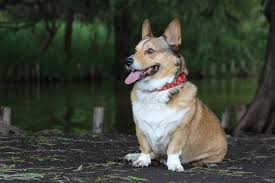dog_sitting: (119, 17, 228, 172)
